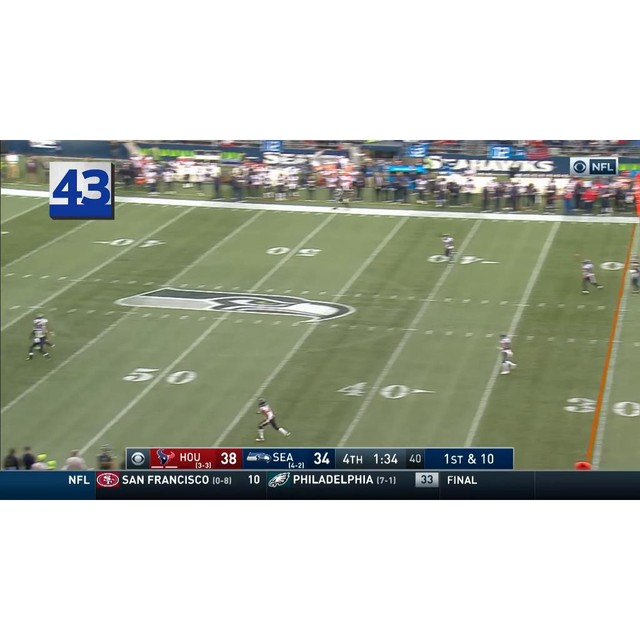american-football-player: (255, 398, 290, 441), (27, 315, 52, 362), (578, 257, 604, 295), (496, 332, 518, 375), (626, 254, 640, 295), (439, 233, 457, 263)
